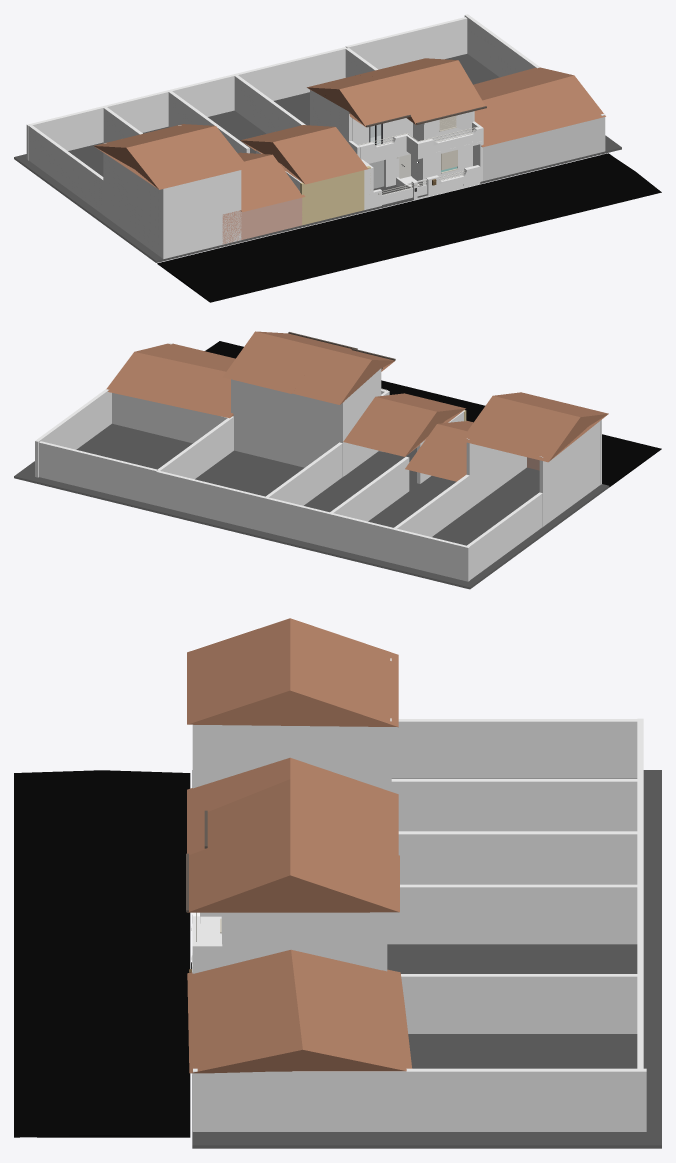
File: sili-ingresso.glb
3 renders of one model, top to bottom at view 1: azimuth 30°, elevation 25°; view 2: azimuth 150°, elevation 25°; view 3: azimuth 270°, elevation 25°, orthographic. The views are drawn at different scales.
Parts seen in each view (by area): view 1: street, Roof_Main.002, Roof_Main.005, Depth_Wall_Right.023, Pillar_Left.015, Pillar_Left.011, Roof_Main, Roof_Main.003, Pillar_Left.002, Pillar_Left.016, Pillar_Left.008, Pillar_Left.005 (+17 smaller); view 2: Depth_Wall_Right.023, Pillar_Left.011, Depth_Wall_Right.021, Roof_Main.002, Roof_Main.005, Roof_Main.003, Pillar_Left.008, Roof_Main, Pillar_Left.005, Pillar_Left.016, Roof_Main.001, Pillar_Left.006 (+11 smaller); view 3: street, Depth_Wall_Right.023, Pillar_Left.007, Roof_Main.002, Roof_Main.005, Roof_Main, Pillar_Left.004, Pillar_Left.014, Pillar_Left.003, Pillar_Left.013, Pillar_Left.012, Pillar_Left.017 (+6 smaller).
Boxes of the visible parts, x1,y1,x2,y2 form: street: (157,153,661,302); Roof_Main.002: (473,67,605,147); Roof_Main.005: (94,124,248,189); Depth_Wall_Right.023: (14,53,621,262); Pillar_Left.015: (161,170,241,259); Pillar_Left.011: (26,74,234,160); Roof_Main: (355,58,485,125); Roof_Main.003: (240,125,367,184); Pillar_Left.002: (483,117,604,180); Pillar_Left.016: (103,143,161,256); Pillar_Left.008: (345,17,467,69); Pillar_Left.005: (236,47,346,100); Depth_Wall_Right.023: (14,423,609,589); Pillar_Left.011: (266,497,470,581); Depth_Wall_Right.021: (231,379,344,476); Roof_Main.002: (106,343,235,418); Roof_Main.005: (461,392,608,462); Roof_Main.003: (343,393,465,456); Pillar_Left.008: (39,441,157,505); Roof_Main: (223,331,351,393); Pillar_Left.005: (155,471,267,532); Pillar_Left.016: (539,421,599,526); Roof_Main.001: (292,348,394,404); Pillar_Left.006: (112,393,228,443); street: (14,770,190,1137); Depth_Wall_Right.023: (192,770,661,1148); Pillar_Left.007: (193,1068,646,1131); Roof_Main.002: (187,949,412,1073); Roof_Main.005: (187,618,398,727); Roof_Main: (187,818,399,912); Pillar_Left.004: (387,884,642,944); Pillar_Left.014: (391,719,641,778); Pillar_Left.003: (401,974,643,1033); Pillar_Left.013: (380,779,639,831); Pillar_Left.012: (398,831,637,884); Pillar_Left.017: (193,718,391,791).
Bounding box in the file's own units: 35.97 × 7.44 × 26.21.
